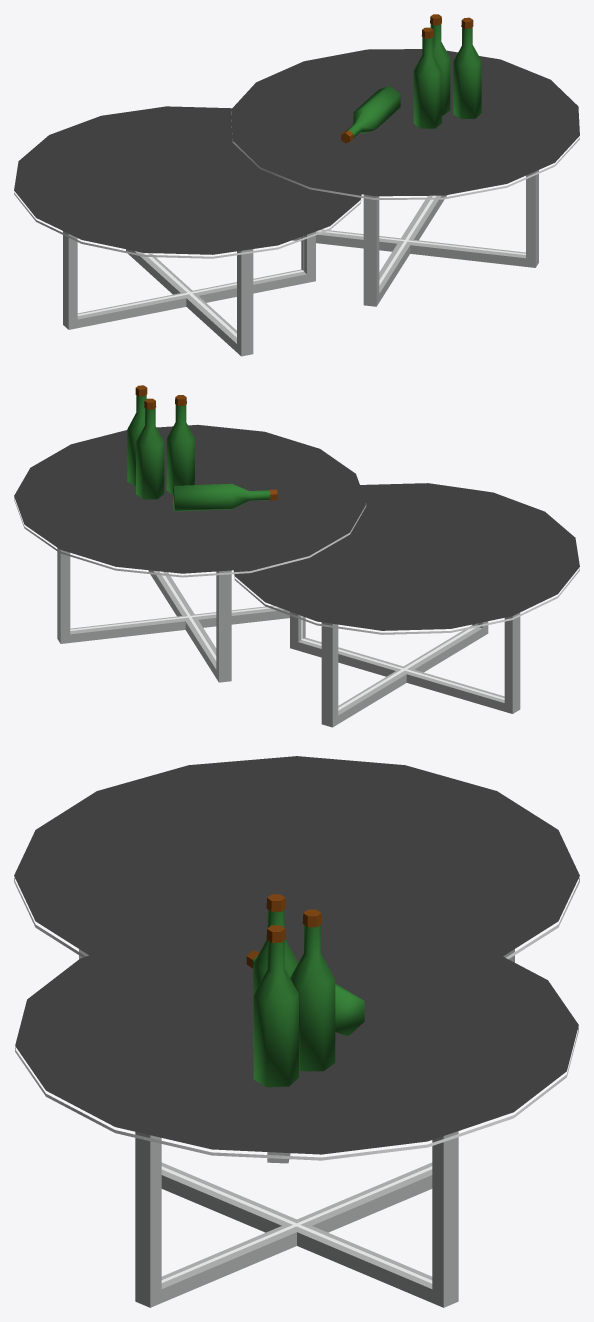
Rendered from M_chaji04.FBX.
3 views of the same model, one above another, from view 1: azimuth 30°, elevation 25°; view 2: azimuth 150°, elevation 25°; view 3: azimuth 270°, elevation 25° (orthographic). The views are drawn at different scales.
Parts seen in each view (by area): view 1: M_chaji04_02, M_chaji04_01, M_chaji04_05, M_chaji04_04, M_chaji04_03; view 2: M_chaji04_02, M_chaji04_01, M_chaji04_05, M_chaji04_04, M_chaji04_03; view 3: M_chaji04_02, M_chaji04_01, M_chaji04_05, M_chaji04_04, M_chaji04_03.
Boxes of the visible parts, x1=… form: M_chaji04_02: x1=14, y1=49, x2=579, y2=254; M_chaji04_01: x1=63, y1=14, x2=538, y2=356; M_chaji04_05: x1=346, y1=24, x2=481, y2=137; M_chaji04_04: x1=14, y1=111, x2=579, y2=258; M_chaji04_03: x1=77, y1=195, x2=525, y2=337; M_chaji04_02: x1=14, y1=424, x2=579, y2=630; M_chaji04_01: x1=57, y1=385, x2=520, y2=727; M_chaji04_05: x1=127, y1=395, x2=270, y2=511; M_chaji04_04: x1=14, y1=497, x2=579, y2=634; M_chaji04_03: x1=70, y1=571, x2=504, y2=710; M_chaji04_02: x1=14, y1=756, x2=579, y2=1154; M_chaji04_01: x1=79, y1=894, x2=514, y2=1307; M_chaji04_05: x1=253, y1=909, x2=364, y2=1087; M_chaji04_04: x1=14, y1=877, x2=579, y2=1160; M_chaji04_03: x1=161, y1=1166, x2=432, y2=1283.
Size of the model in its own units: 2.56 by 1.04 by 1.5.
